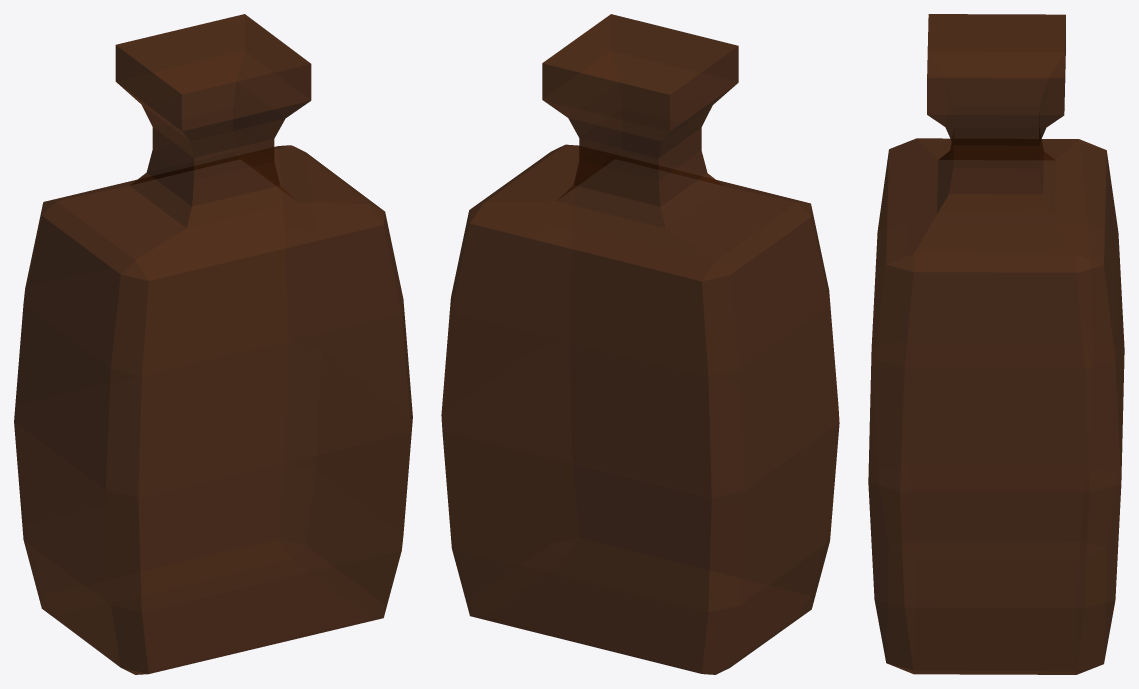
The model's file is Bottle_A_Alt.fbx.
3 views of the same model, side by side, from view 1: azimuth 30°, elevation 25°; view 2: azimuth 150°, elevation 25°; view 3: azimuth 270°, elevation 25° (orthographic).
Parts seen in each view (by area): view 1: Bottle_A_Alt; view 2: Bottle_A_Alt; view 3: Bottle_A_Alt.
Part boxes in pixels (x1,y1,x2,y2): Bottle_A_Alt: [14, 14, 412, 674]; Bottle_A_Alt: [441, 14, 839, 674]; Bottle_A_Alt: [868, 14, 1124, 674].
Bounding box in the file's own units: 466 × 816 × 332.
